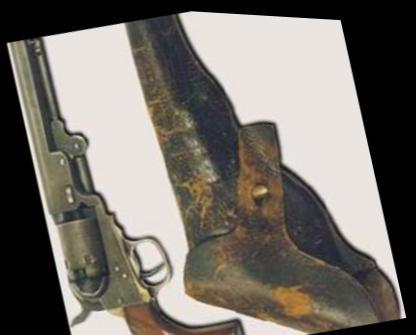pistol: (4, 3, 250, 333)
